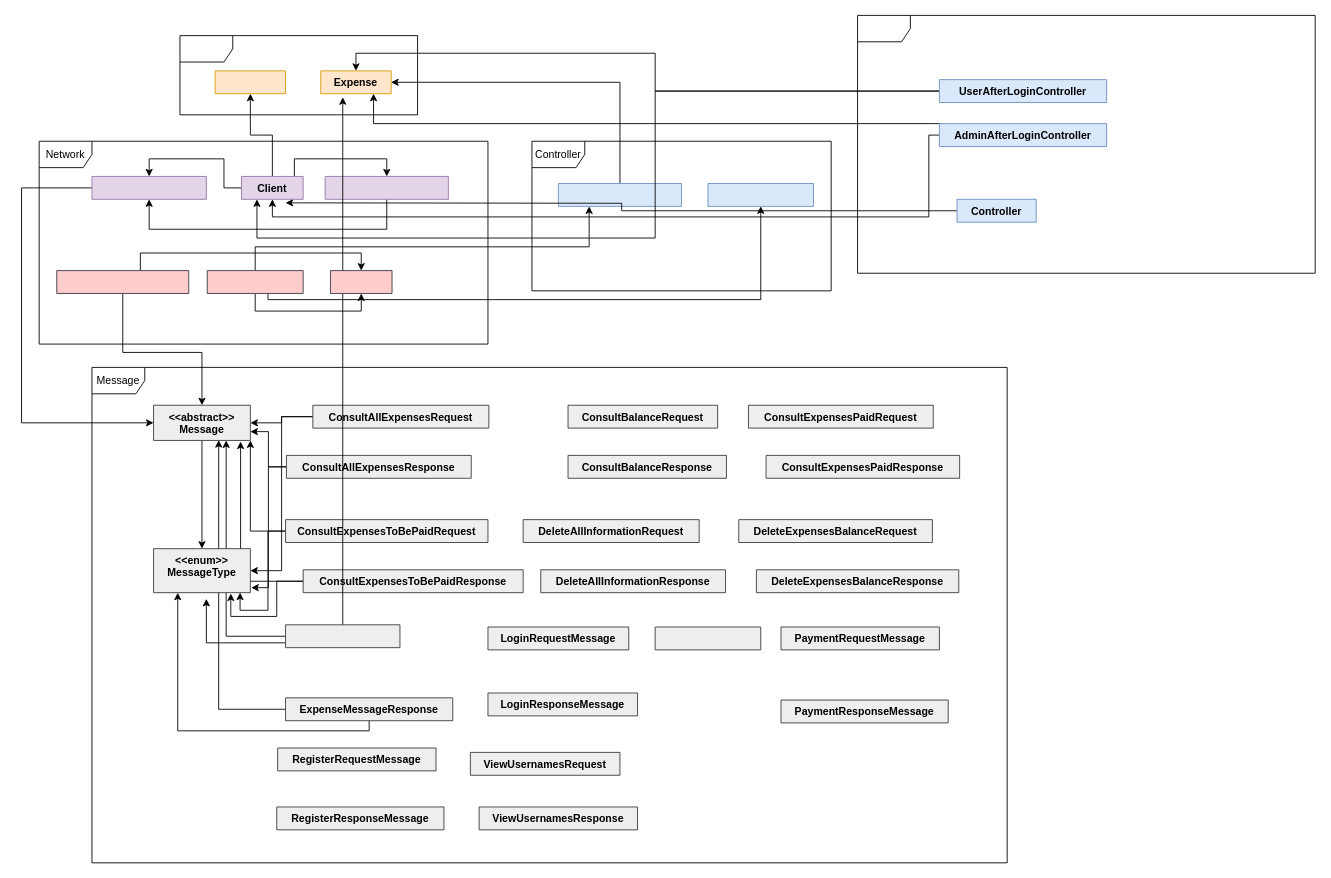
The diagram is 1331 pixels wide and 878 high, and some of its shapes have lost their labels. The box of each missing label's shape, as (x1, y1, x2, y2) in pixels:
Balance: (214, 70, 286, 94)
ClientHandler: (206, 270, 303, 293)
CommandHandler: (324, 176, 448, 199)
ExpenseController: (557, 183, 682, 206)
ExpenseMessage: (285, 624, 400, 648)
LogoutMessage: (654, 626, 761, 650)
MessageHandler: (91, 176, 206, 199)
Model: (179, 35, 418, 115)
Server: (330, 270, 392, 293)
ServerMessageHandler: (56, 270, 189, 293)
UsersController: (707, 183, 814, 206)
View: (857, 15, 1315, 273)
